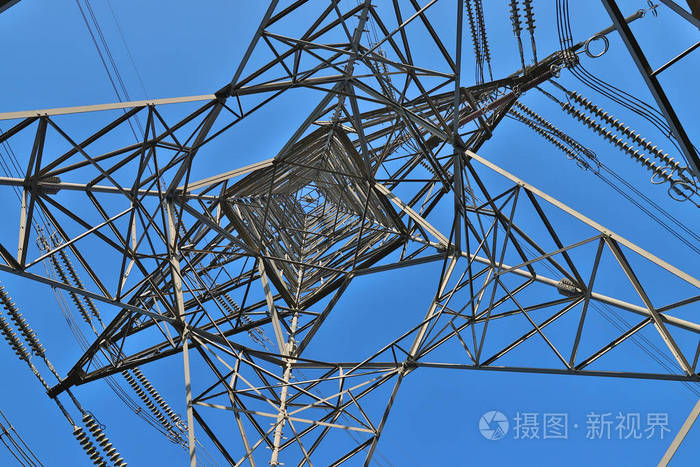insulator: (559, 91, 684, 180), (513, 100, 584, 161), (46, 248, 101, 321), (123, 366, 180, 433), (1, 286, 47, 362), (72, 412, 126, 467), (464, 1, 493, 63), (507, 1, 541, 35), (217, 292, 249, 325)
